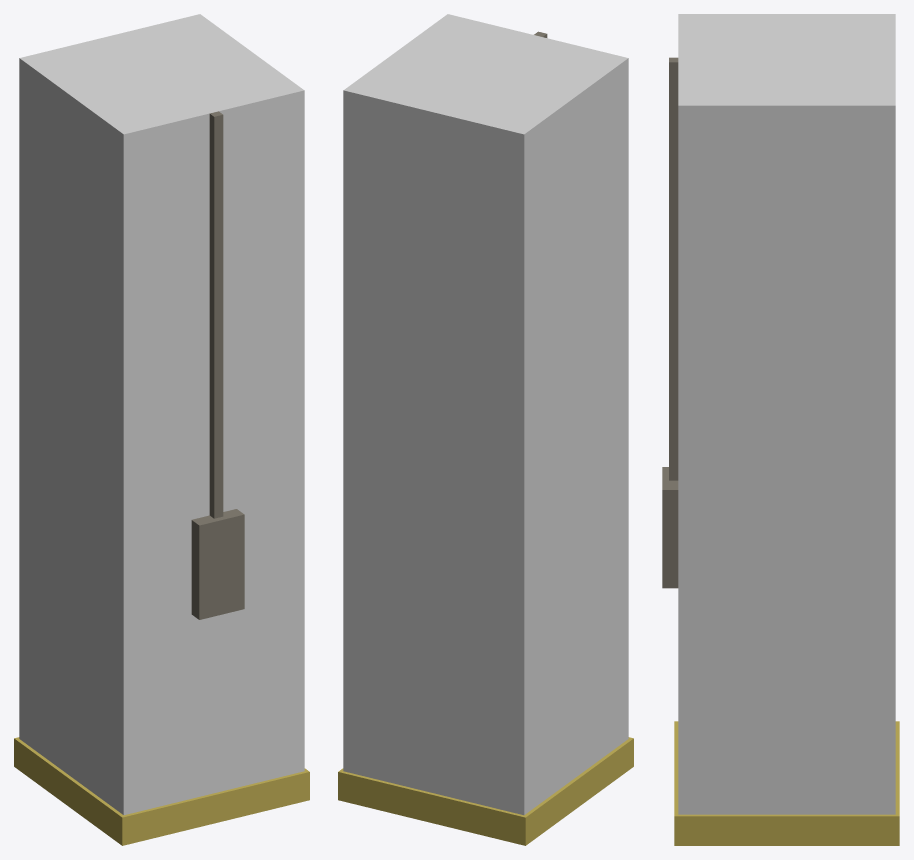
The model's file is MOD_22_Pillar_Var.fbx.
3 views of the same model, side by side, from view 1: azimuth 30°, elevation 25°; view 2: azimuth 150°, elevation 25°; view 3: azimuth 270°, elevation 25° (orthographic). The views are drawn at different scales.
Parts seen in each view (by area): view 1: MOD_22_Pillar_Var; view 2: MOD_22_Pillar_Var; view 3: MOD_22_Pillar_Var.
Part boxes in pixels (left/top/right/bottom): MOD_22_Pillar_Var: left=14, top=14, right=309, bottom=845; MOD_22_Pillar_Var: left=338, top=14, right=633, bottom=845; MOD_22_Pillar_Var: left=662, top=14, right=899, bottom=845.
Bounding box in the file's own units: 0.83 × 3 × 0.875.
